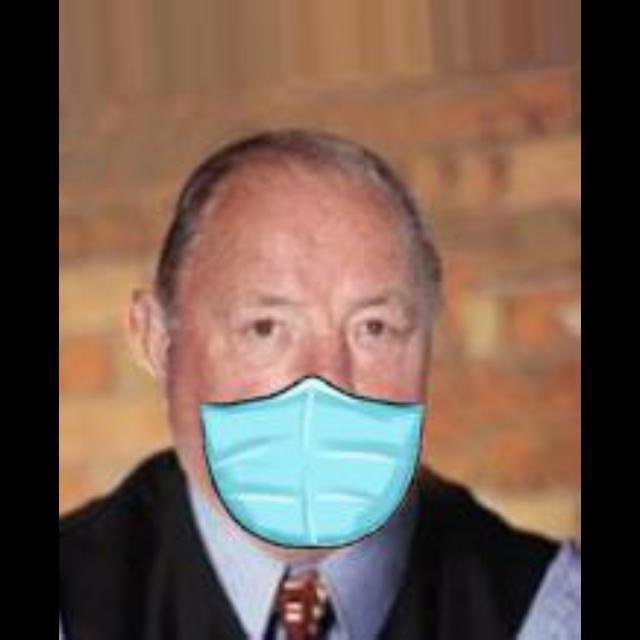suspicion: (140, 150, 456, 522)
